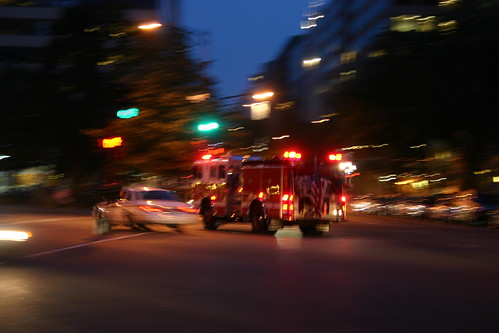car: (99, 177, 207, 236)
firetruck: (194, 151, 346, 238)
street: (5, 212, 499, 333)
